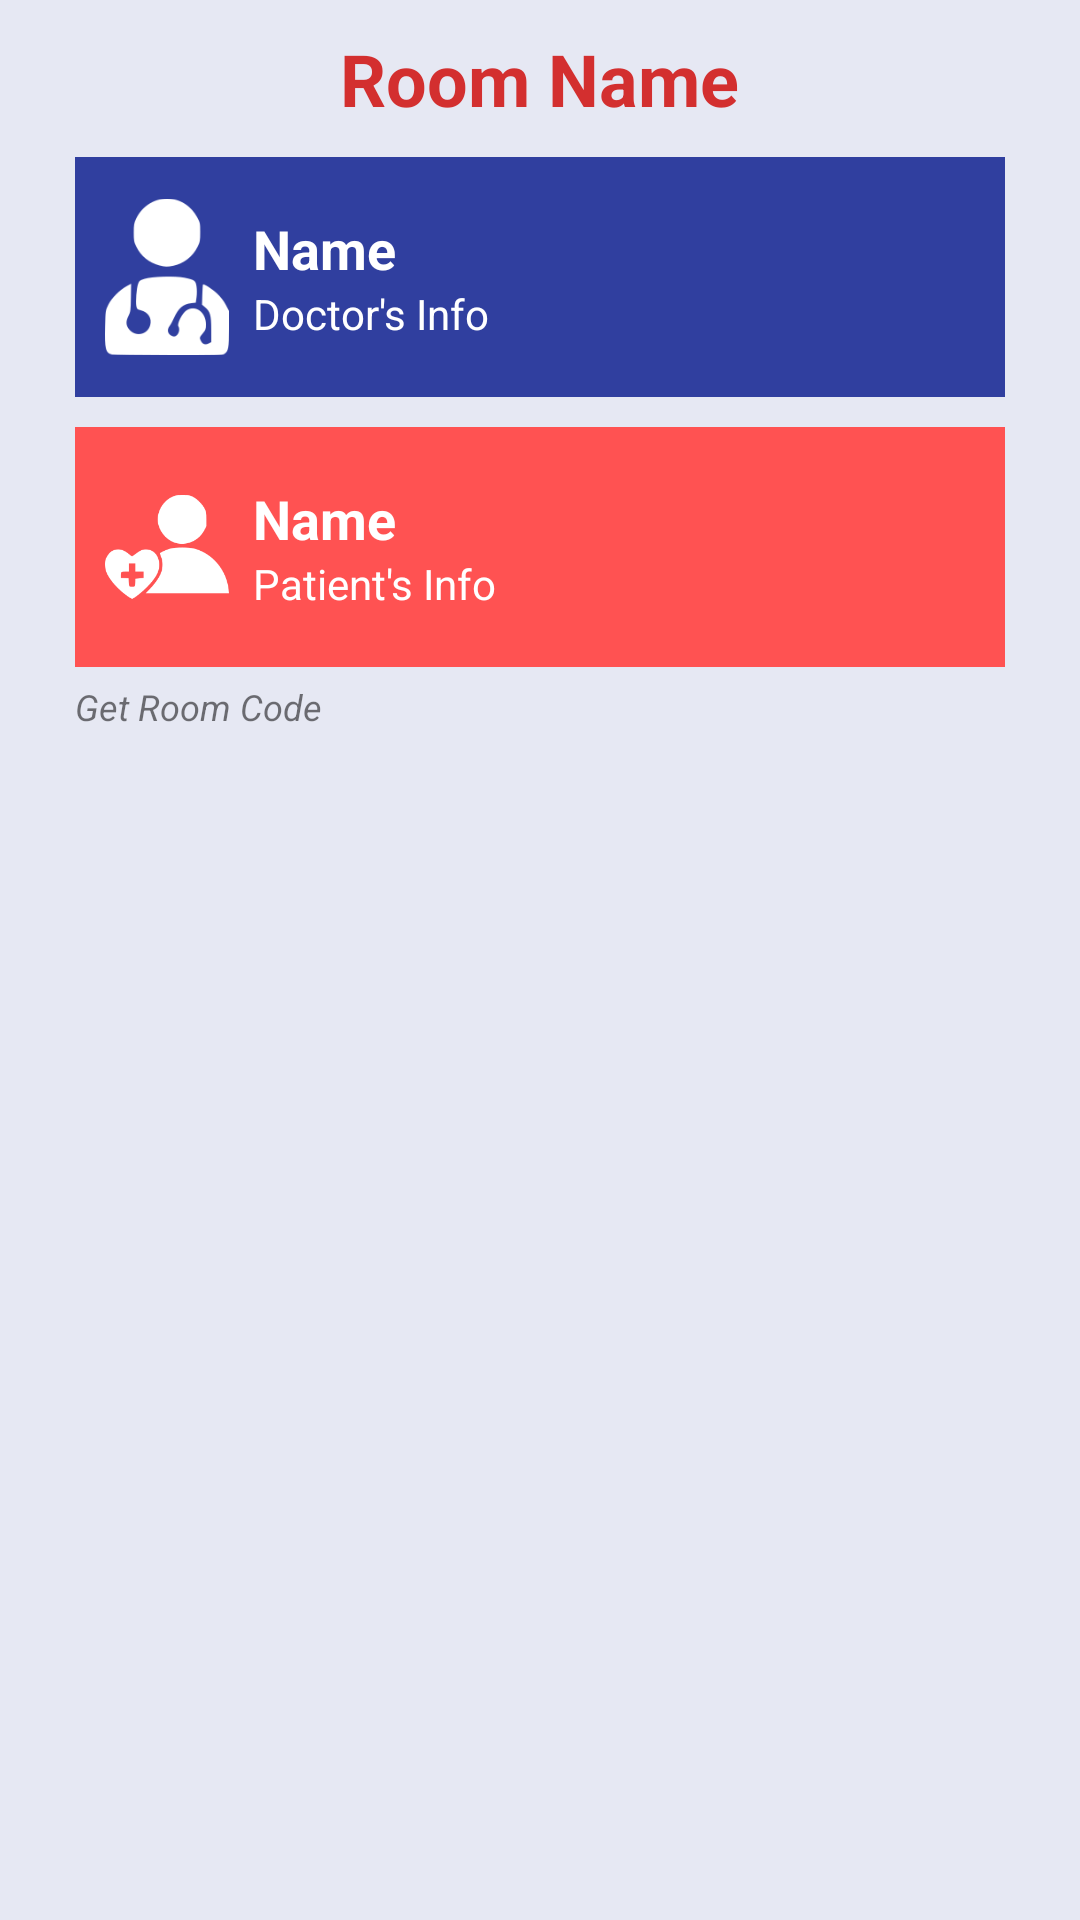

Icon bounding boxes for this 1080px x 1920px phone screenshot, format [x1=x1, y1=y1, x2=x2, y2=y2]:
doc low: [x1=105, y1=199, x2=229, y2=355]
patient low: [x1=105, y1=495, x2=229, y2=599]
